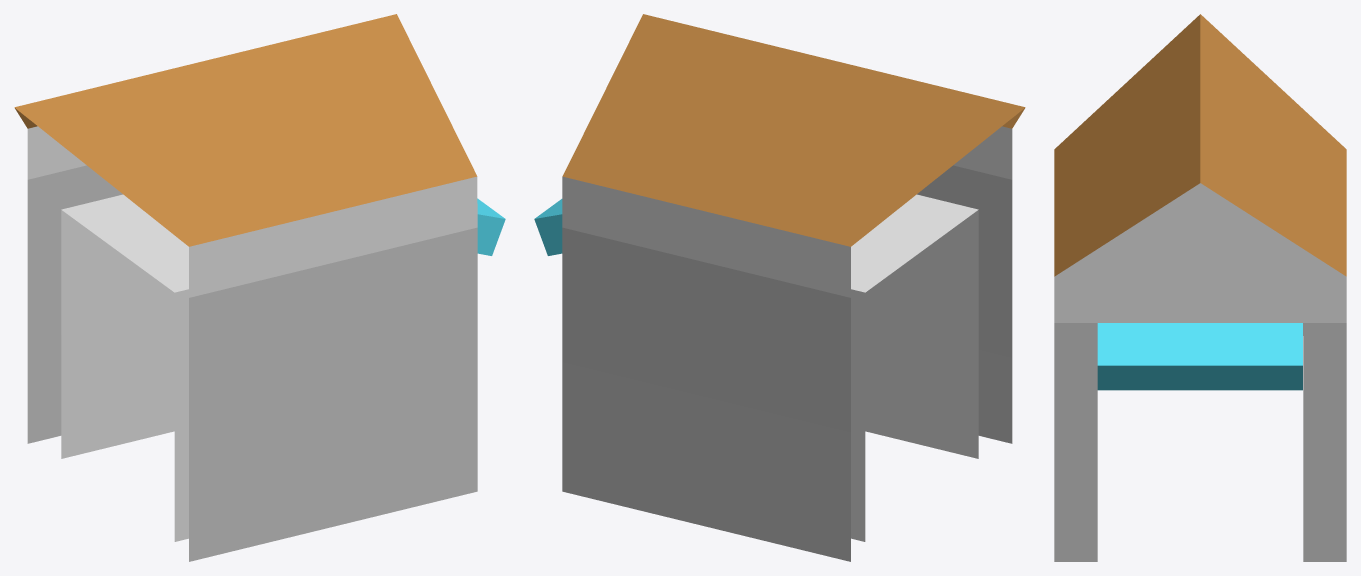
The model's file is house01_upgrade_s03.FBX.
The picture shows the model from 3 angles, left to right: view 1: azimuth 30°, elevation 25°; view 2: azimuth 150°, elevation 25°; view 3: azimuth 270°, elevation 25°; orthographic projection. The views are drawn at different scales.
Visible parts, largest first — view 1: house01_upgrade_s03; view 2: house01_upgrade_s03; view 3: house01_upgrade_s03.
Part boxes in pixels (x1,y1,x2,y2): house01_upgrade_s03: [14, 14, 505, 561]; house01_upgrade_s03: [534, 14, 1025, 561]; house01_upgrade_s03: [1054, 14, 1346, 561].
Bounding box in the file's own units: 370 × 238 × 340.
1 material, 1 textured.
